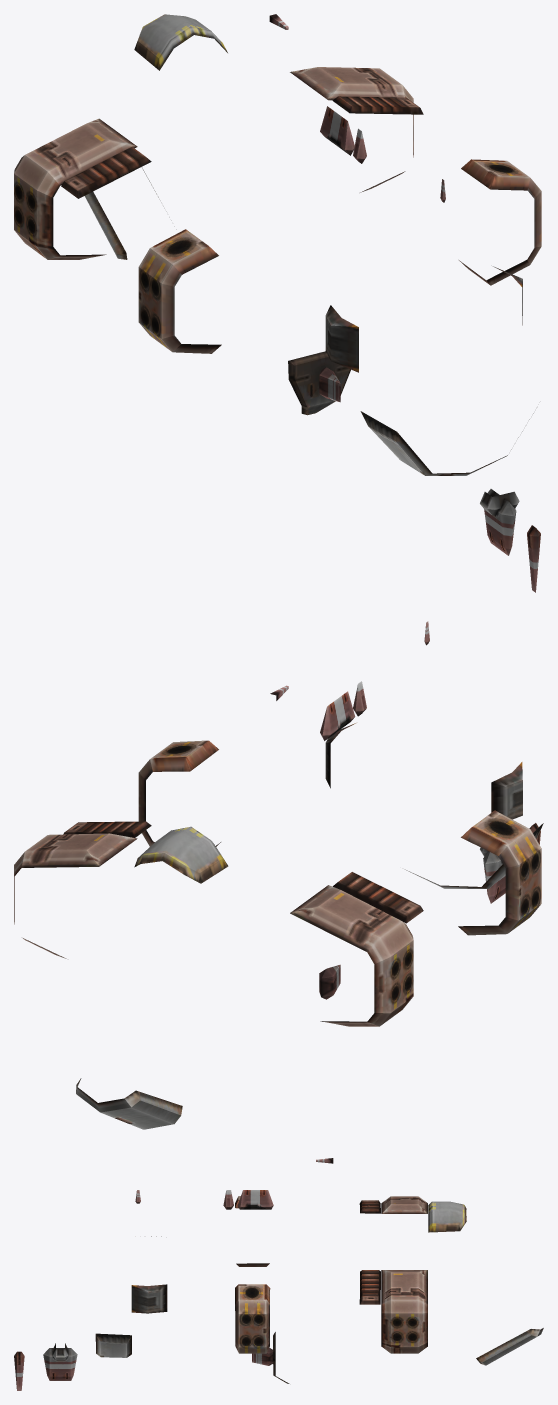
Rendered from tan_cf_serv_01.glb.
The picture shows the model from 3 angles, top to bottom: view 1: azimuth 30°, elevation 25°; view 2: azimuth 150°, elevation 25°; view 3: azimuth 270°, elevation 25°; orthographic projection. The views are drawn at different scales.
Parts seen in each view (by area): view 1: tan_civ_01_LOD0; view 2: tan_civ_01_LOD0; view 3: tan_civ_01_LOD0.
Part boxes in pixels (left/top/right/bottom): tan_civ_01_LOD0: left=14, top=14, right=541, bottom=592; tan_civ_01_LOD0: left=14, top=621, right=543, bottom=1129; tan_civ_01_LOD0: left=14, top=1158, right=543, bottom=1390.
Size of what is drawn, in the model's own units: 0.5387 by 0.5223 by 1.08.
Materials: 1 (1 with a texture image).
